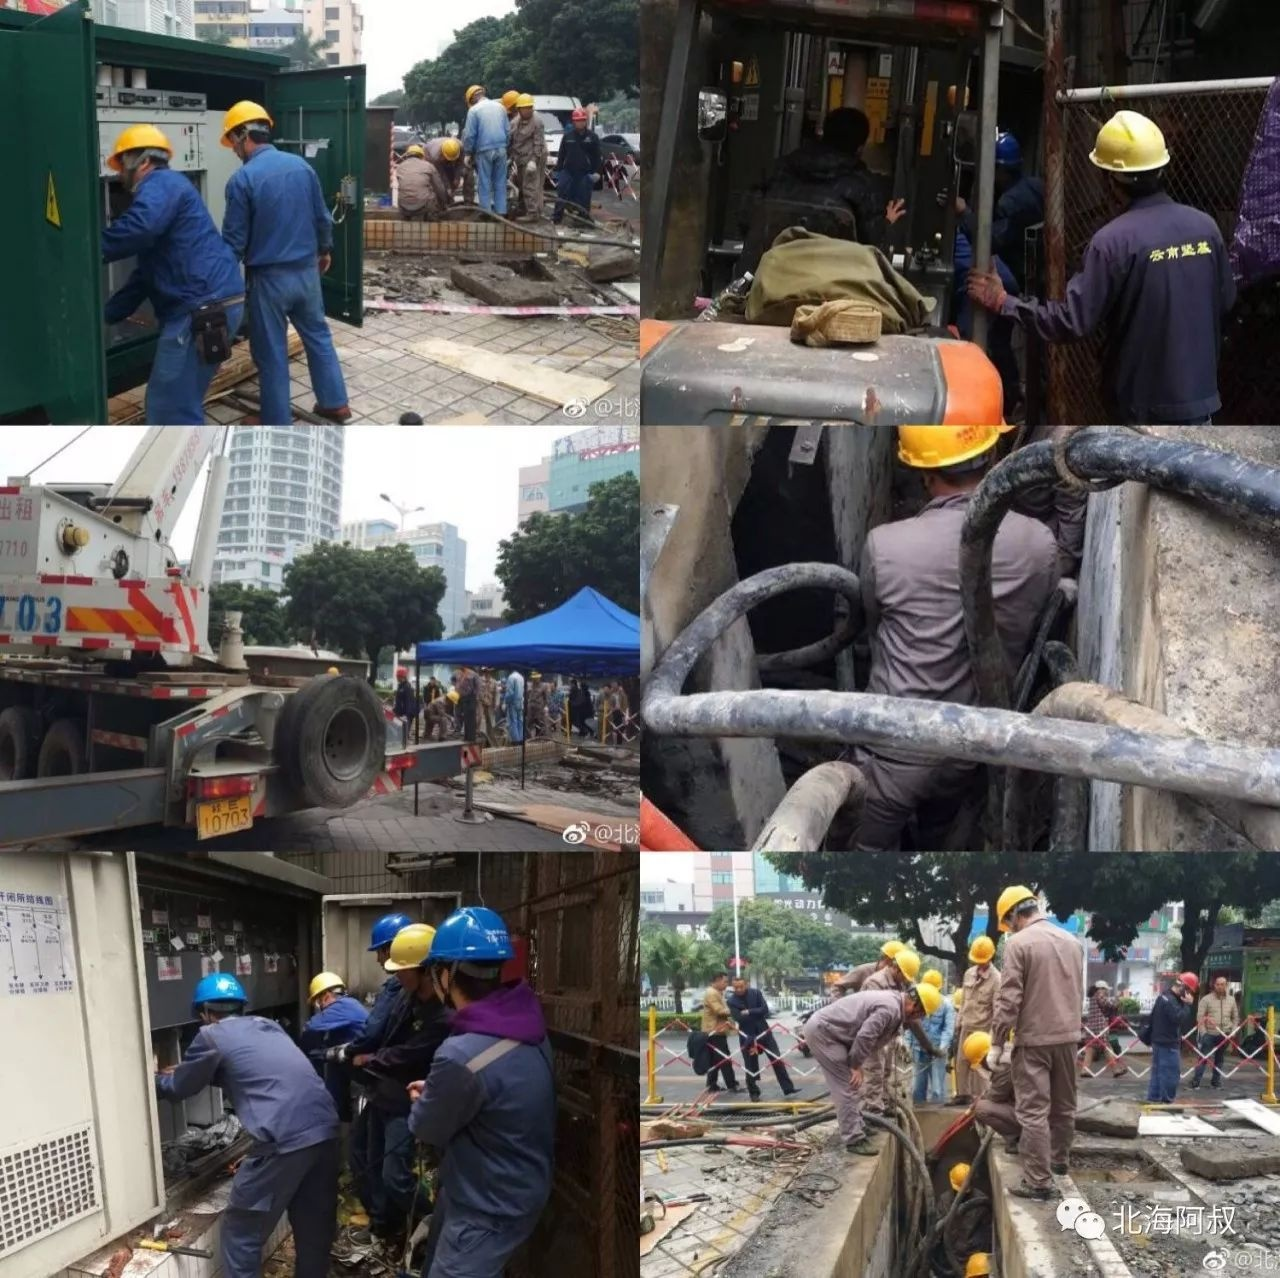blue: (428, 905, 512, 1011), (187, 973, 245, 1021), (369, 911, 408, 968), (990, 128, 1024, 188)
none: (821, 101, 870, 158), (710, 970, 729, 991), (1211, 974, 1229, 995), (730, 973, 746, 995)
red: (1172, 969, 1198, 998), (570, 106, 589, 130), (394, 666, 408, 682)
yellow: (890, 419, 1004, 499), (1093, 111, 1169, 200), (110, 122, 168, 184), (220, 94, 273, 157), (388, 925, 435, 988), (995, 885, 1038, 932), (307, 969, 345, 1009), (903, 983, 941, 1021), (964, 1031, 997, 1069), (887, 951, 921, 984), (966, 935, 996, 969), (947, 1163, 975, 1198), (879, 940, 904, 967), (439, 137, 461, 163), (515, 92, 536, 119), (464, 84, 486, 106), (404, 140, 424, 163), (445, 689, 460, 705), (529, 672, 542, 683)
